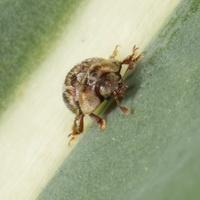insect: (63, 45, 145, 144)
